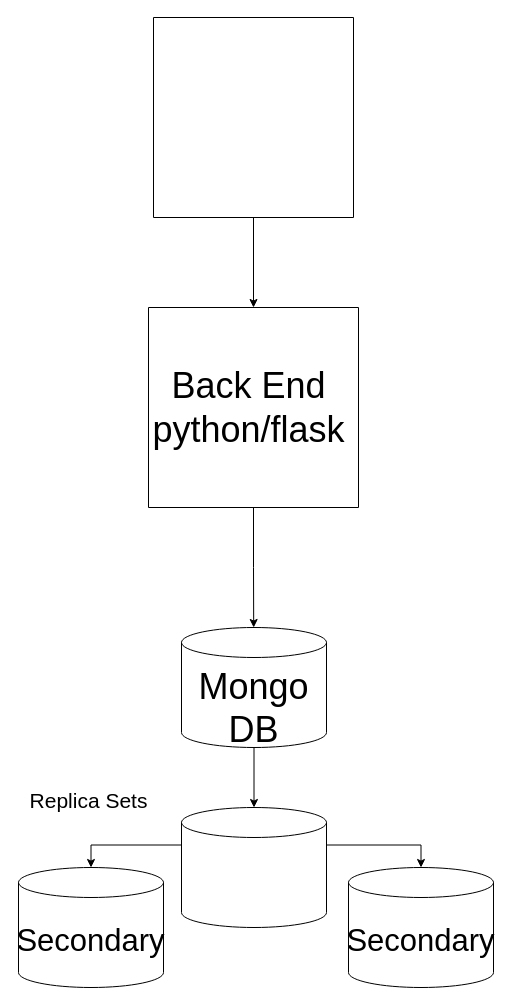
Some shapes in this 512 by 1005 pixel diagram are drawn without their labels. The centre of each missing label's shape, as x and y in pixels:
"Front End Website html/js" goes at point 253,117.
"Primary" goes at point 253,867.
